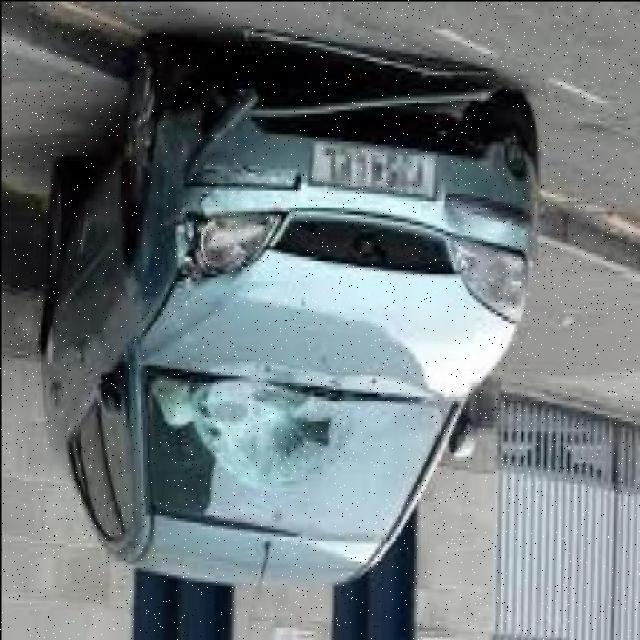damage: (234, 27, 503, 167), (149, 111, 294, 301), (180, 375, 388, 495)
